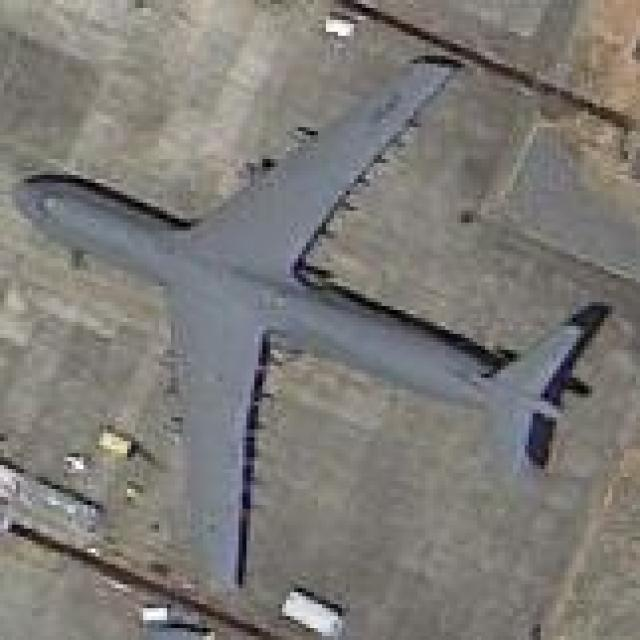C-5_TopDown: (12, 62, 622, 585)
